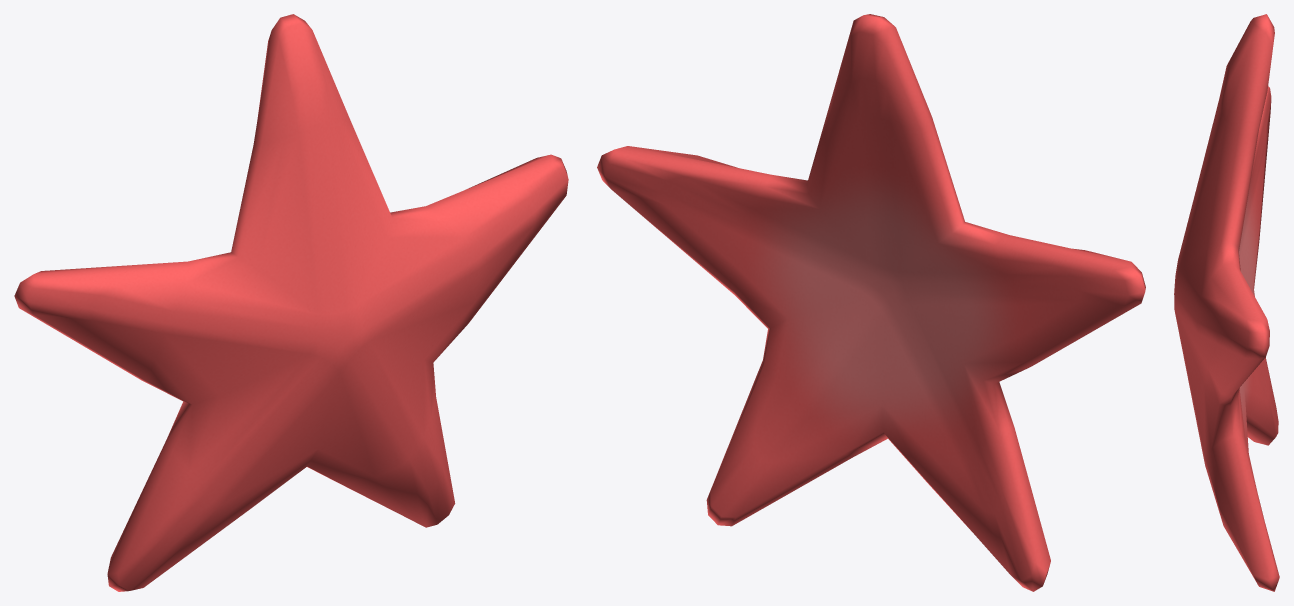
The model's file is Starfish_03.fbx.
3 renders of one model, left to right at view 1: azimuth 30°, elevation 25°; view 2: azimuth 150°, elevation 25°; view 3: azimuth 270°, elevation 25°, orthographic. The views are drawn at different scales.
Visible parts, largest first — view 1: Starfish03; view 2: Starfish03; view 3: Starfish03.
Part boxes in pixels (<box>): Starfish03: <box>14,14,568,591</box>; Starfish03: <box>597,14,1145,591</box>; Starfish03: <box>1174,14,1279,591</box>.
Size of the model in its own units: 1.86 by 1.76 by 0.3323.
1 material, 1 textured.
